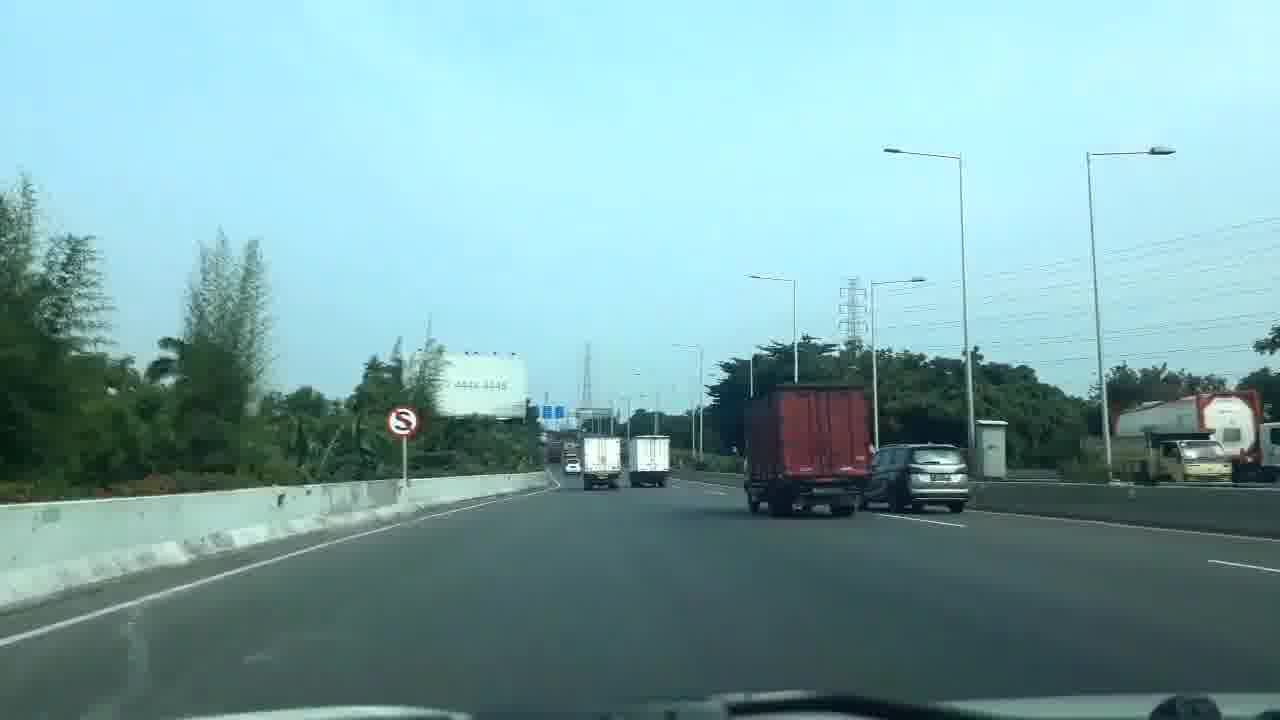plate_positive: (812, 486, 845, 494), (931, 473, 952, 481)
